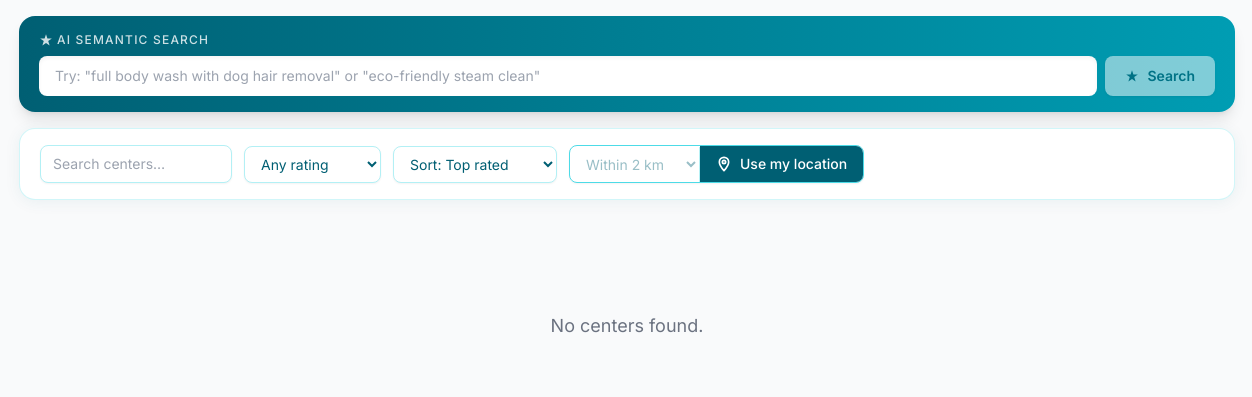
CentersListClient — geolocation › shows "Clear location" button after successful geolocation
Click the button "Use my location".
click(782, 164)  # box top-left (700, 146), bottom-right (863, 182)
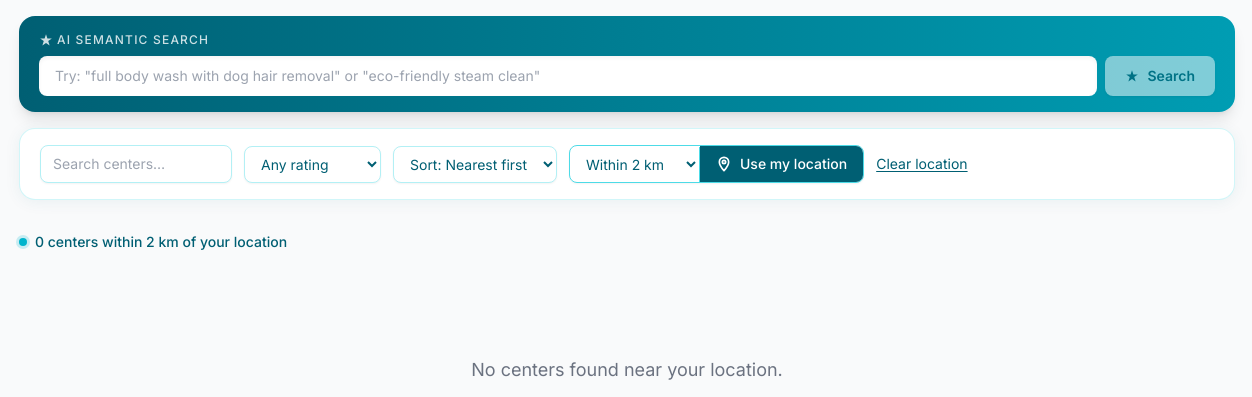
Expected: the button "Clear location" is shown, top-left (876, 154), bottom-right (968, 174)
